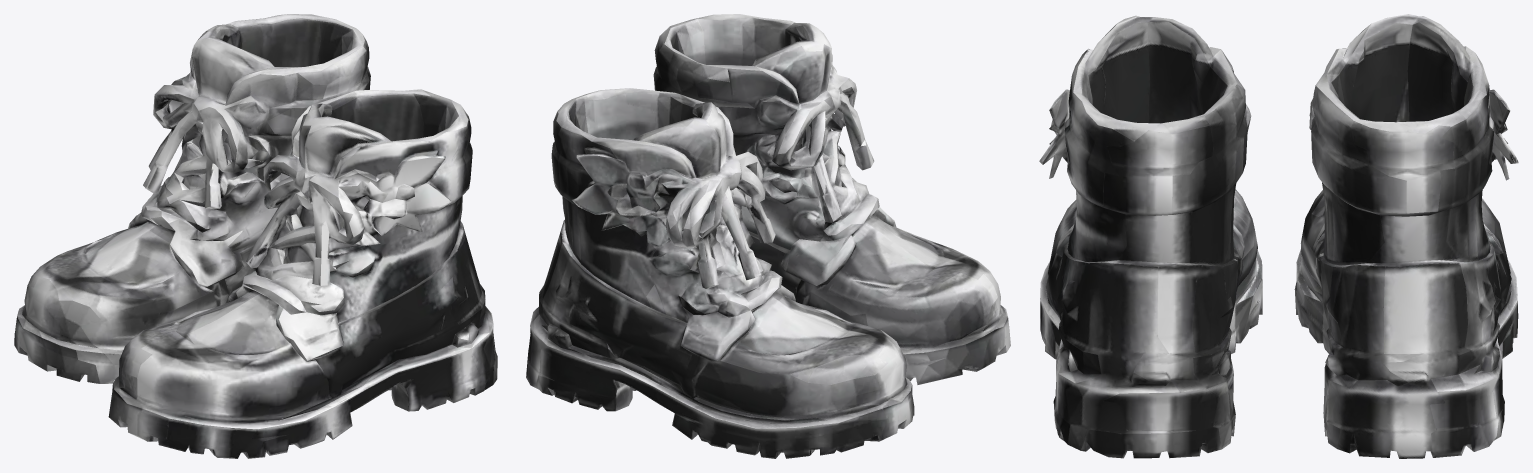
The model's file is shoe-silver.glb.
3 renders of one model, left to right at view 1: azimuth 30°, elevation 25°; view 2: azimuth 150°, elevation 25°; view 3: azimuth 270°, elevation 25°, orthographic. The views are drawn at different scales.
Visible parts, largest first — view 1: geometry_0; view 2: geometry_0; view 3: geometry_0.
Part boxes in pixels (x1=…): geometry_0: x1=14, y1=14, x2=497, y2=458; geometry_0: x1=526, y1=14, x2=1010, y2=458; geometry_0: x1=1039, y1=14, x2=1518, y2=458.
Bounding box in the file's own units: 0.25 × 0.1937 × 0.2374.
Materials: 1 (1 with a texture image).
